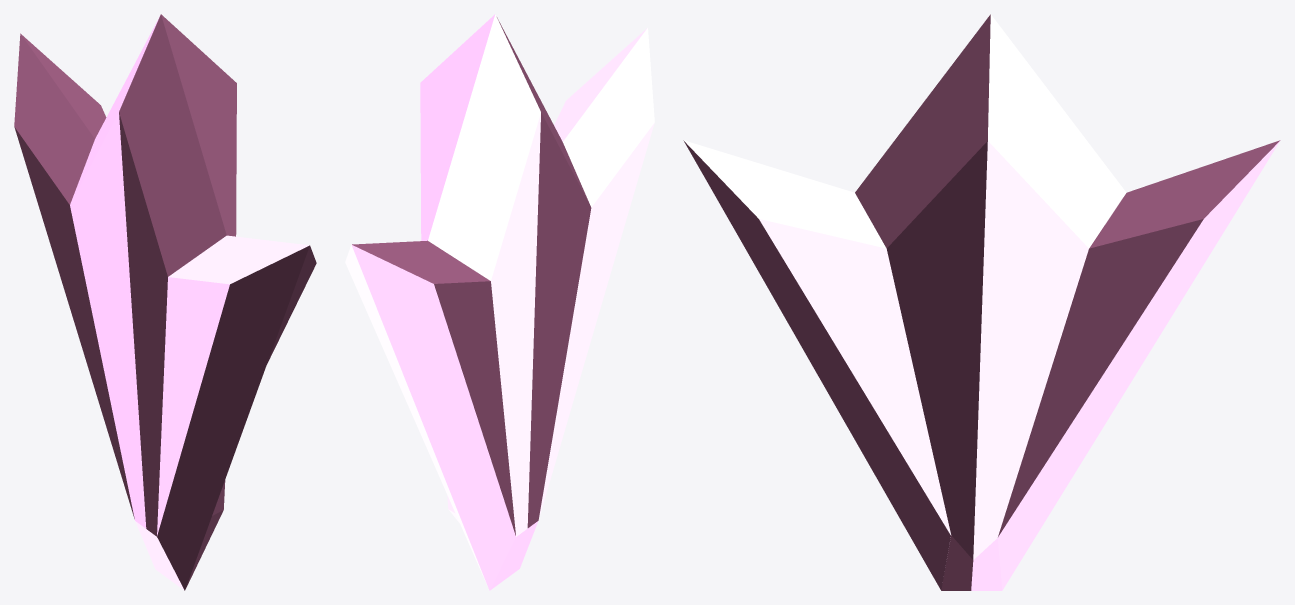
Rendered from ShieldsUp.fbx.
3 renders of one model, left to right at view 1: azimuth 30°, elevation 25°; view 2: azimuth 150°, elevation 25°; view 3: azimuth 270°, elevation 25°, orthographic. The views are drawn at different scales.
Visible parts, largest first — view 1: Cube; view 2: Cube; view 3: Cube.
Boxes of the visible parts, left/top/right/bottom form: Cube: left=14, top=14, right=316, bottom=590; Cube: left=345, top=14, right=654, bottom=590; Cube: left=683, top=14, right=1280, bottom=590.
Size of the model in its own units: 118 by 537 by 504.
